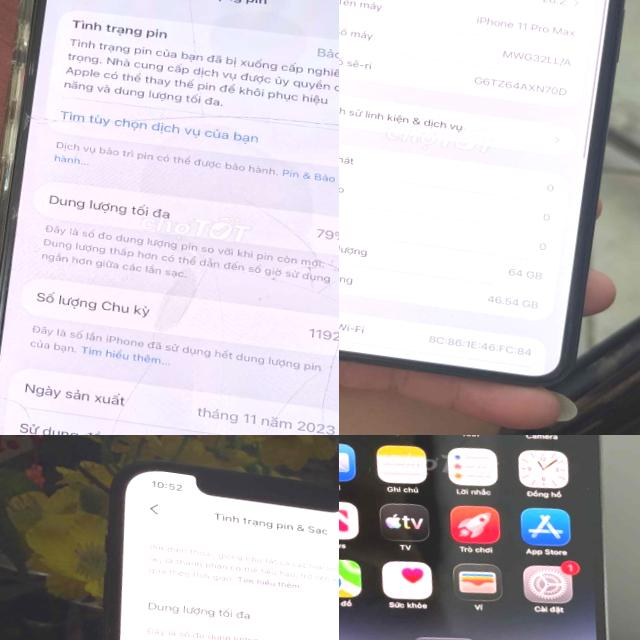gen_11: (339, 0, 640, 386)
gen_12_13: (42, 446, 339, 640)
gen_14: (339, 435, 640, 640)
gen_15: (0, 0, 339, 435)
screen_defect: (214, 291, 339, 435), (239, 201, 339, 302), (145, 0, 224, 124), (21, 94, 176, 150), (208, 102, 339, 153), (156, 246, 212, 356)
